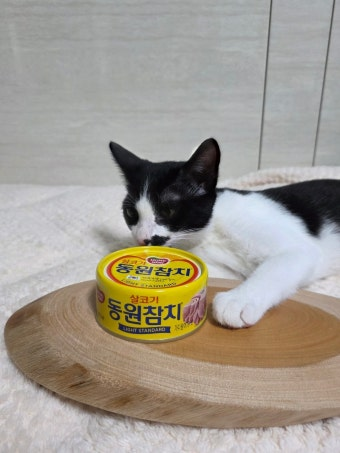paper: (89, 115, 340, 337), (108, 139, 224, 249), (90, 245, 211, 339)
